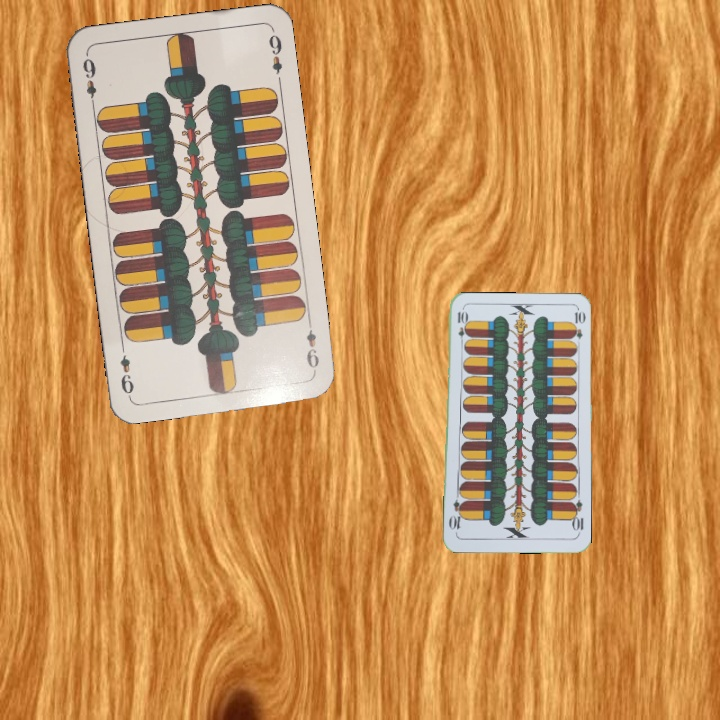E10: (567, 496, 586, 537), (453, 307, 467, 348)
E9: (78, 51, 99, 110), (302, 326, 322, 375)
